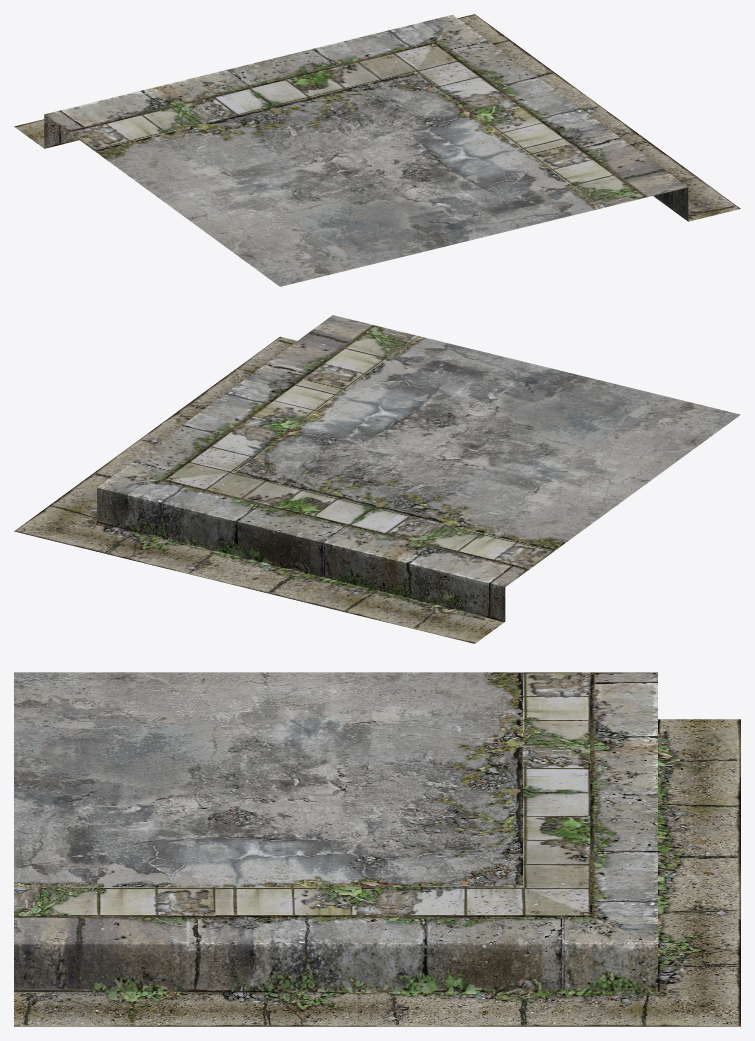
Rendered from Sidewalk2_TurnA.FBX.
3 renders of one model, top to bottom at view 1: azimuth 30°, elevation 25°; view 2: azimuth 150°, elevation 25°; view 3: azimuth 270°, elevation 25°, orthographic. The views are drawn at different scales.
Visible parts, largest first — view 1: Sidewalk2_TurnA; view 2: Sidewalk2_TurnA; view 3: Sidewalk2_TurnA.
Part boxes in pixels (x1,y1,x2,y2): Sidewalk2_TurnA: (14, 14, 740, 286); Sidewalk2_TurnA: (14, 315, 740, 643); Sidewalk2_TurnA: (14, 672, 740, 1026).
Bounding box in the file's own units: 350 × 25 × 350.
2 materials, 2 textured.
